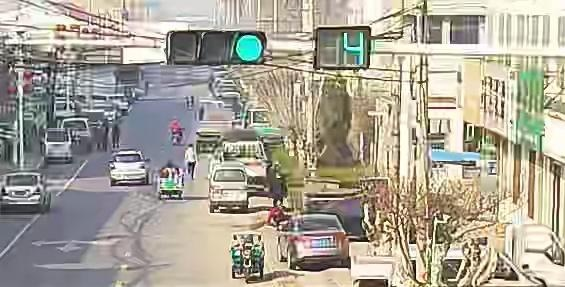green: (235, 33, 265, 63)
redtime: (339, 30, 365, 70)
